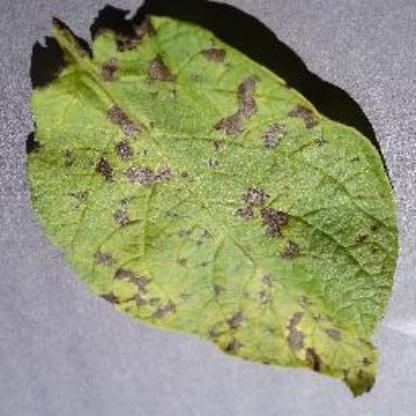Early-Blight: (20, 11, 398, 396)
